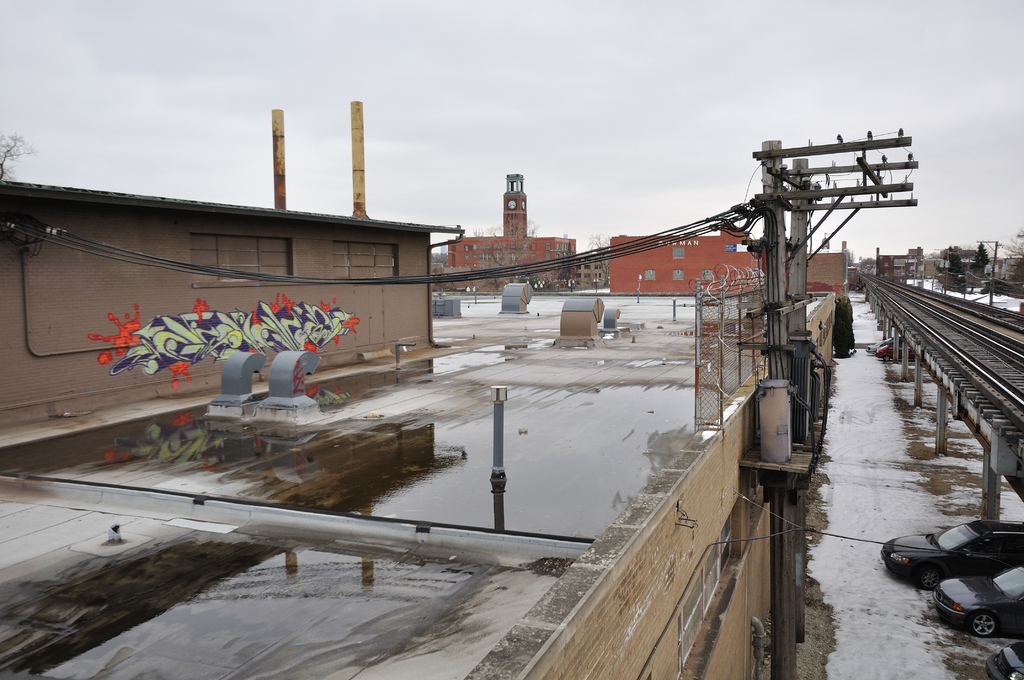cars: (880, 521, 1023, 585), (935, 563, 1023, 636)
